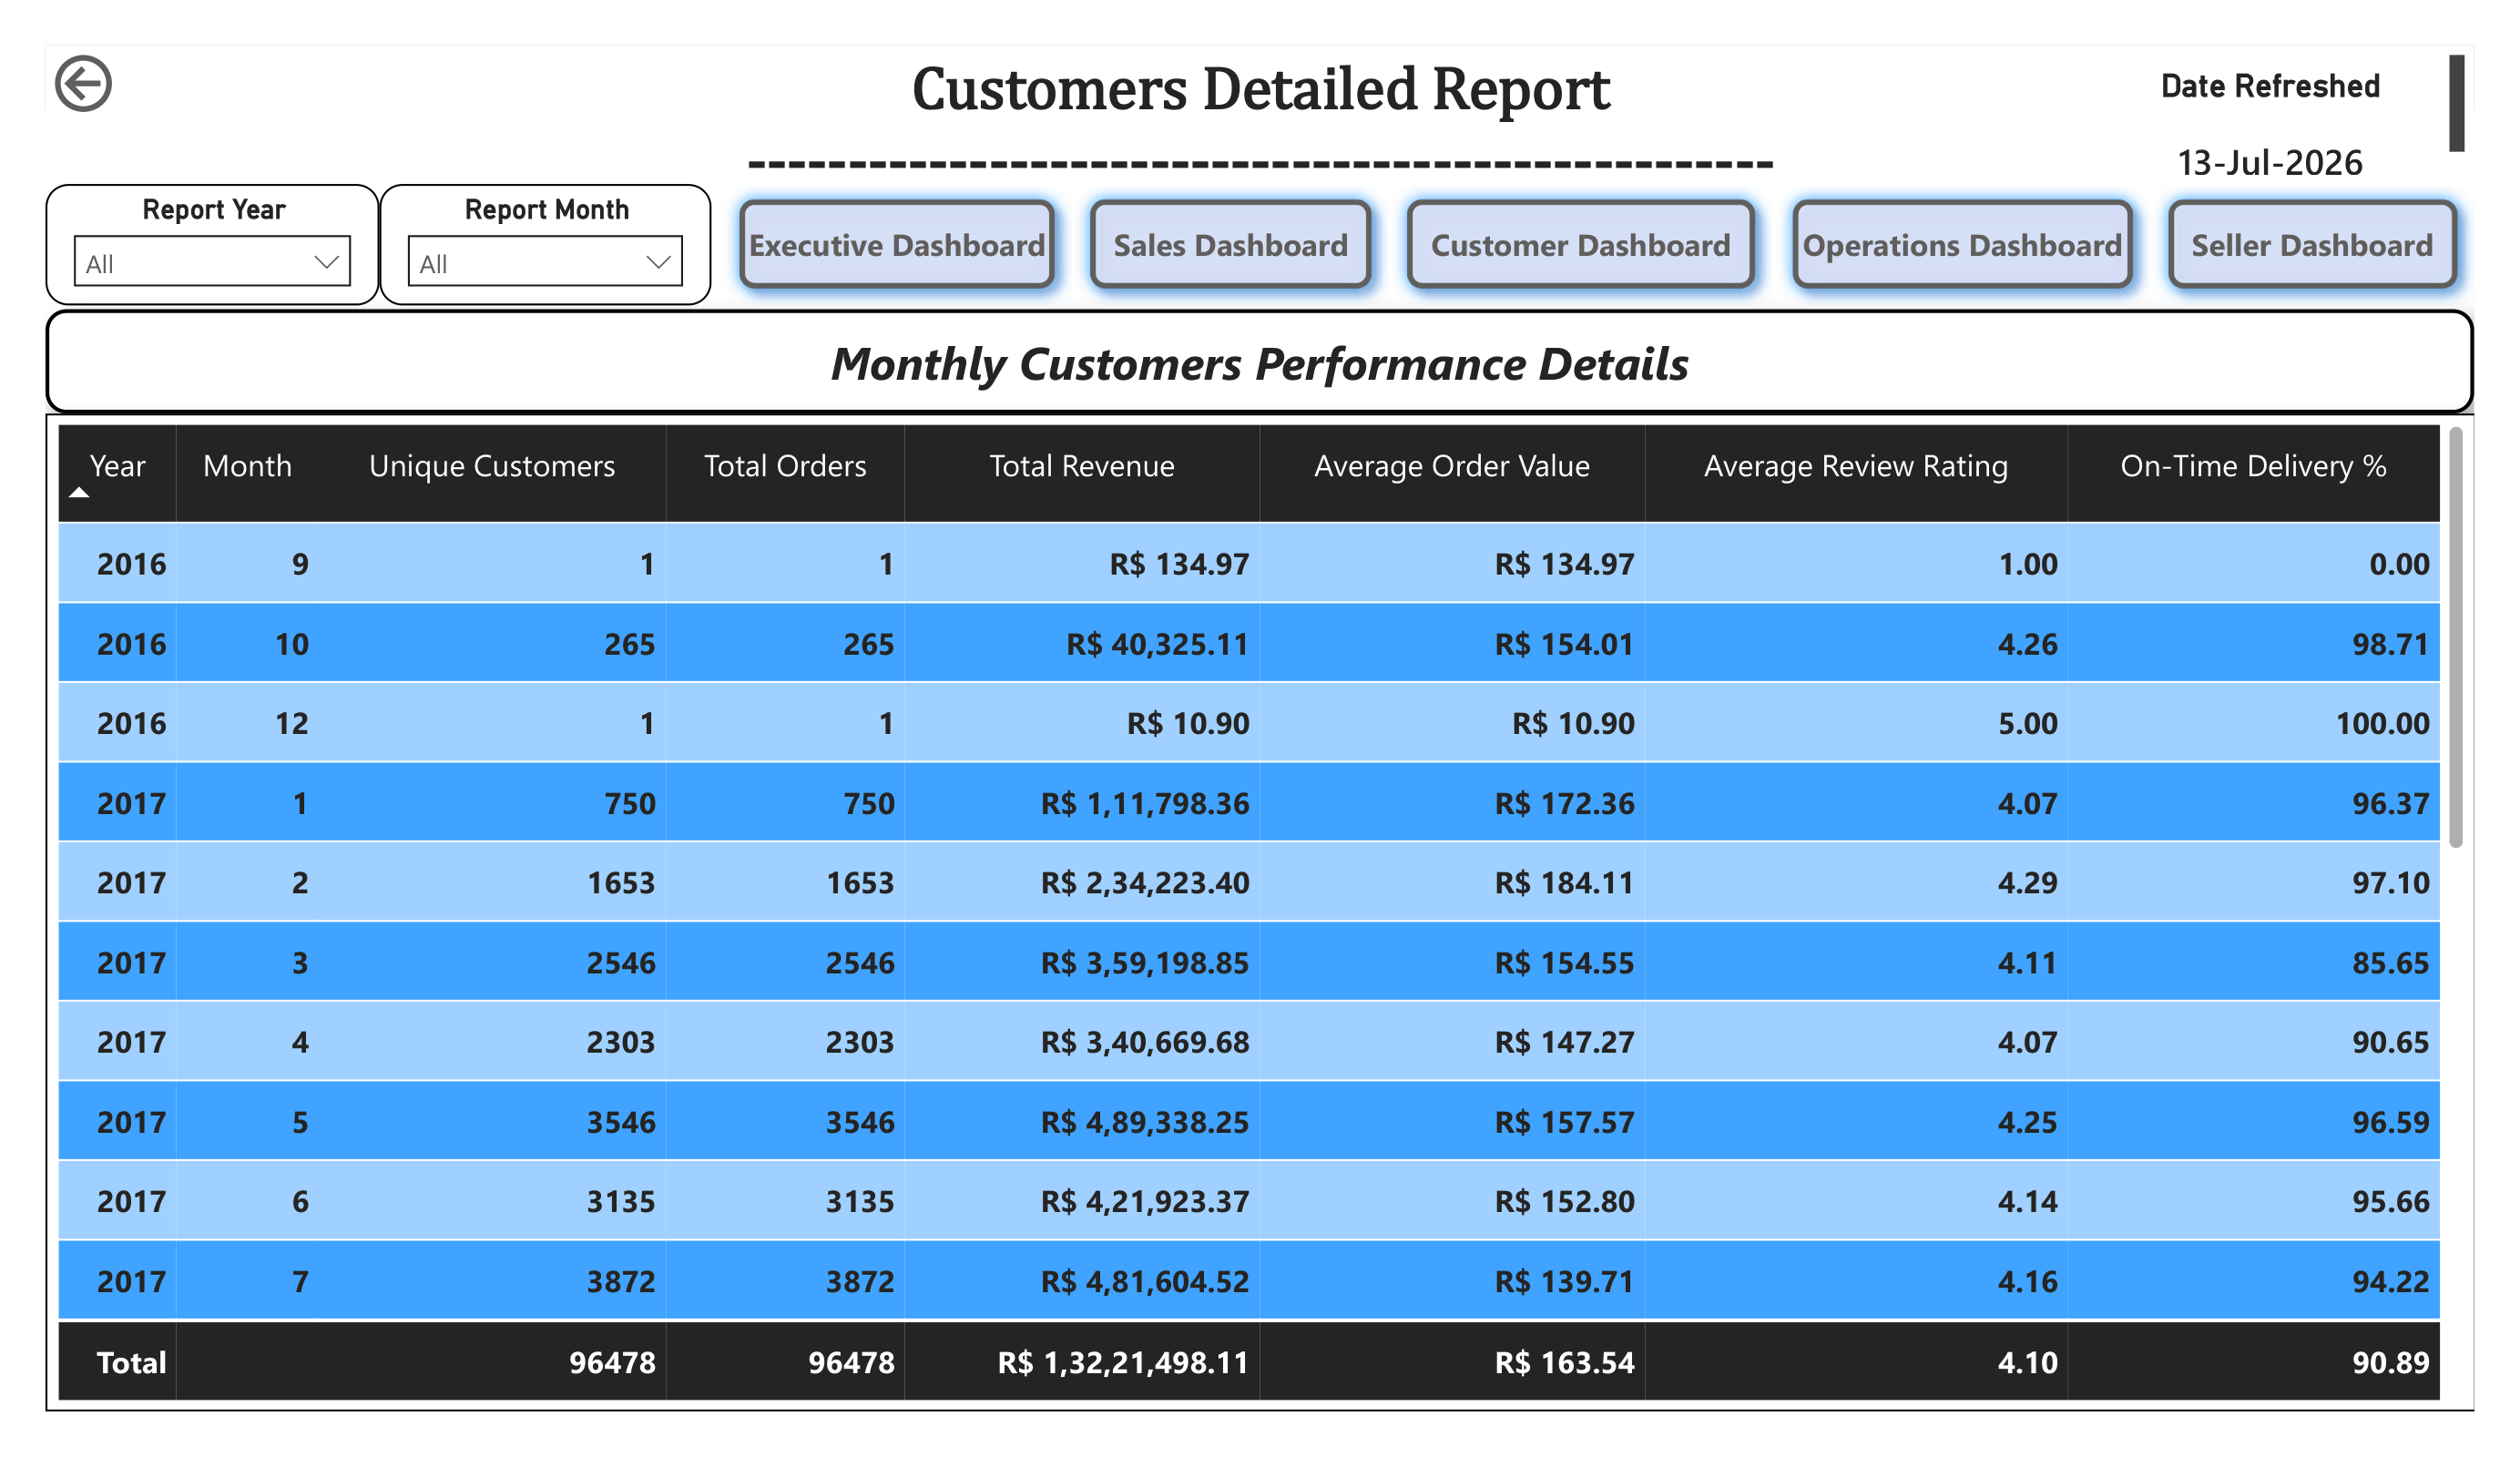

This screenshot's page, from the dashboard's own definition file:
{"tool":"powerbi","page":{"name":"Customer Details","canvas":[1280,720],"ordinal":5},"visuals":[{"type":"textbox","box":[9,0,1271.2,71.7],"z":0},{"type":"cardVisual","title":"Date Refreshed","fields":{"Data":["Measures (2).Last Refresh Date"]},"box":[1065.4,10.6,215.2,82.4],"z":1000},{"type":"slicer","title":"Report Month","fields":{"Values":["Customer.report_month"]},"box":[176.3,73.2,174.8,64.2],"z":2000},{"type":"slicer","title":"Report Year","fields":{"Values":["Customer.report_year"]},"box":[0,73.2,176.3,64.2],"z":3000},{"type":"actionButton","box":[0,0,100,40],"z":4000},{"type":"textbox","box":[0,138.9,1280.2,55.3],"z":5000},{"type":"tableEx","fields":{"Values":["Customer.report_year","Customer.report_month","Sum(Customer.unique_customers)","Sum(Customer.total_orders)","Customer.total_revenue","Avg(Customer.average_order_value)","Avg(Customer.average_review_score)","Avg(Customer.on_time_delivery_percentage)"]},"box":[0,193.9,1280.6,526.1],"z":6000},{"type":"actionButton","box":[357,71.7,183.7,65.7],"z":7000},{"type":"actionButton","box":[541.9,71.7,165.8,65.7],"z":8000},{"type":"actionButton","box":[708.8,71.7,201.7,65.7],"z":9000},{"type":"actionButton","box":[911.6,71.7,197.2,65.7],"z":10000},{"type":"actionButton","box":[1109.7,71.7,170.3,65.7],"z":11000}]}

Visuals, with their boxes on the page's 1280x720 design canvas (x1, y1, x2, y2). These are canvas units, not pixel positions in the 2520x1457 screenshot, which may show the page scaled, cropped or inside an application window:
textbox: box=[9, 0, 1280, 72]
"Date Refreshed" cardVisual: box=[1065, 11, 1281, 93]
"Report Month" slicer: box=[176, 73, 351, 137]
"Report Year" slicer: box=[0, 73, 176, 137]
actionButton: box=[0, 0, 100, 40]
textbox: box=[0, 139, 1280, 194]
tableEx - Customer.report_year x Customer.report_month: box=[0, 194, 1281, 720]
actionButton: box=[357, 72, 541, 137]
actionButton: box=[542, 72, 708, 137]
actionButton: box=[709, 72, 910, 137]
actionButton: box=[912, 72, 1109, 137]
actionButton: box=[1110, 72, 1280, 137]
